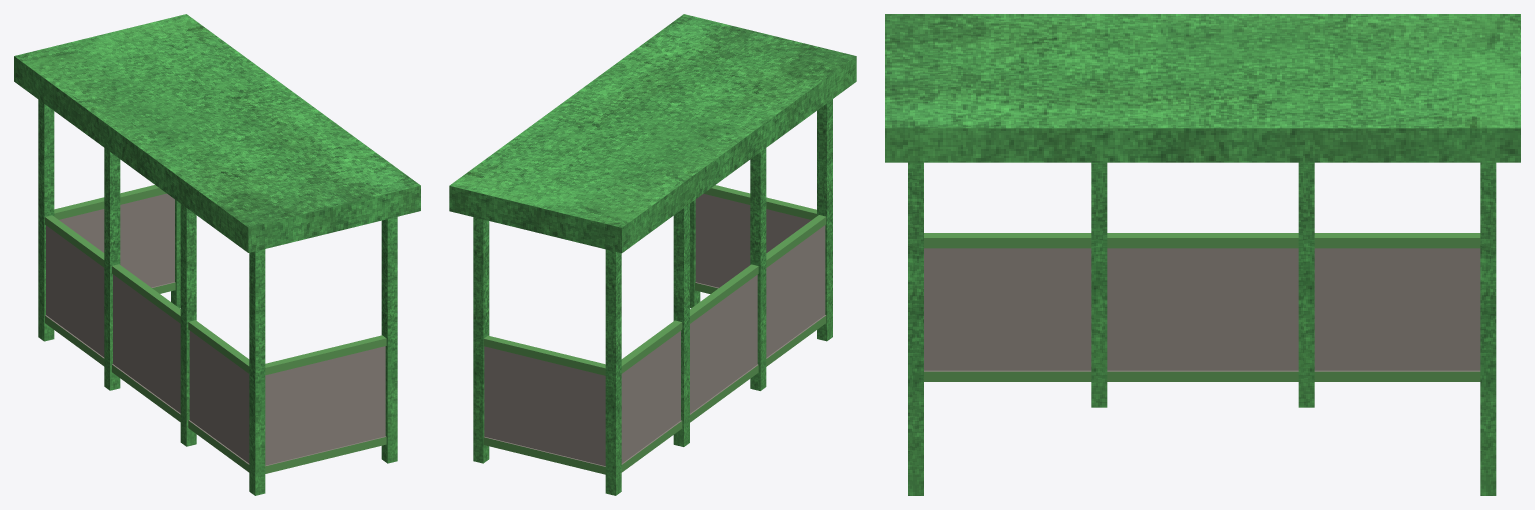
File: busstopgreen.glb
The picture shows the model from 3 angles, left to right: view 1: azimuth 30°, elevation 25°; view 2: azimuth 150°, elevation 25°; view 3: azimuth 270°, elevation 25°; orthographic projection. The views are drawn at different scales.
Parts seen in each view (by area): view 1: top, panes, pillars; view 2: top, panes, pillars; view 3: top, panes, pillars.
Part boxes in pixels (x1=…): top: x1=14, y1=14, x2=420, y2=252; panes: x1=45, y1=185, x2=386, y2=473; pillars: x1=38, y1=99, x2=397, y2=495; top: x1=449, y1=14, x2=856, y2=253; panes: x1=483, y1=185, x2=826, y2=474; pillars: x1=473, y1=99, x2=832, y2=495; top: x1=885, y1=14, x2=1520, y2=162; panes: x1=924, y1=233, x2=1480, y2=381; pillars: x1=908, y1=162, x2=1496, y2=495.
Size of the model in its own units: 3.4 by 5.24 by 8.
3 materials, 1 textured.
